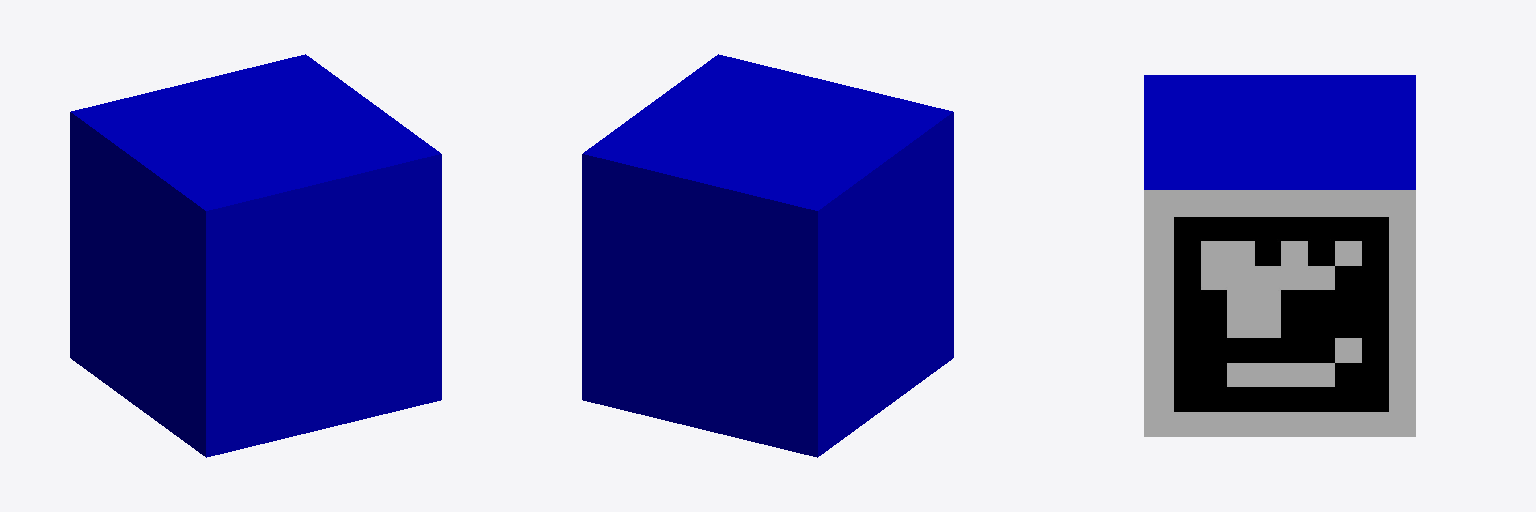
3 views of the same model, side by side, from view 1: azimuth 30°, elevation 25°; view 2: azimuth 150°, elevation 25°; view 3: azimuth 270°, elevation 25° (orthographic).
Parts seen in each view (by area): view 1: Cube; view 2: Cube; view 3: Cube.
Boxes of the visible parts, x1,y1,x2,y2 form: Cube: [70, 54, 441, 457]; Cube: [582, 54, 953, 457]; Cube: [1144, 75, 1415, 436].
Bounding box in the file's own units: 0.1 × 0.1 × 0.1.
2 materials, 1 textured.